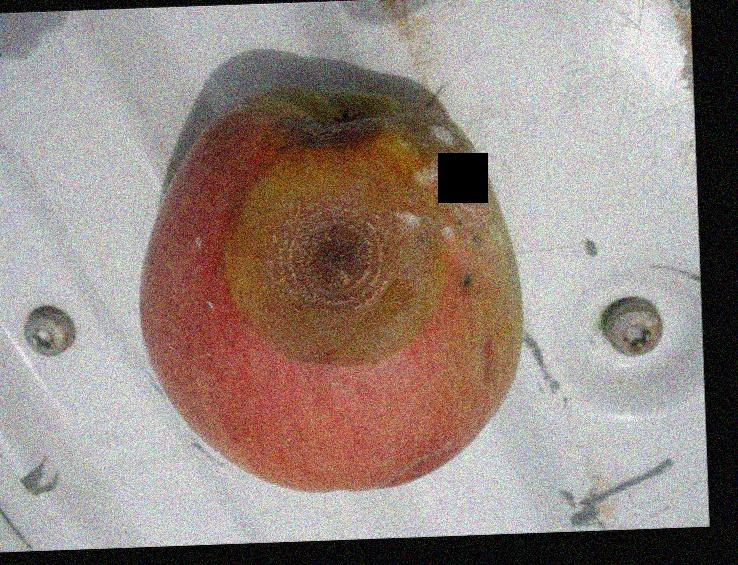rotten apple: (138, 78, 524, 494)
